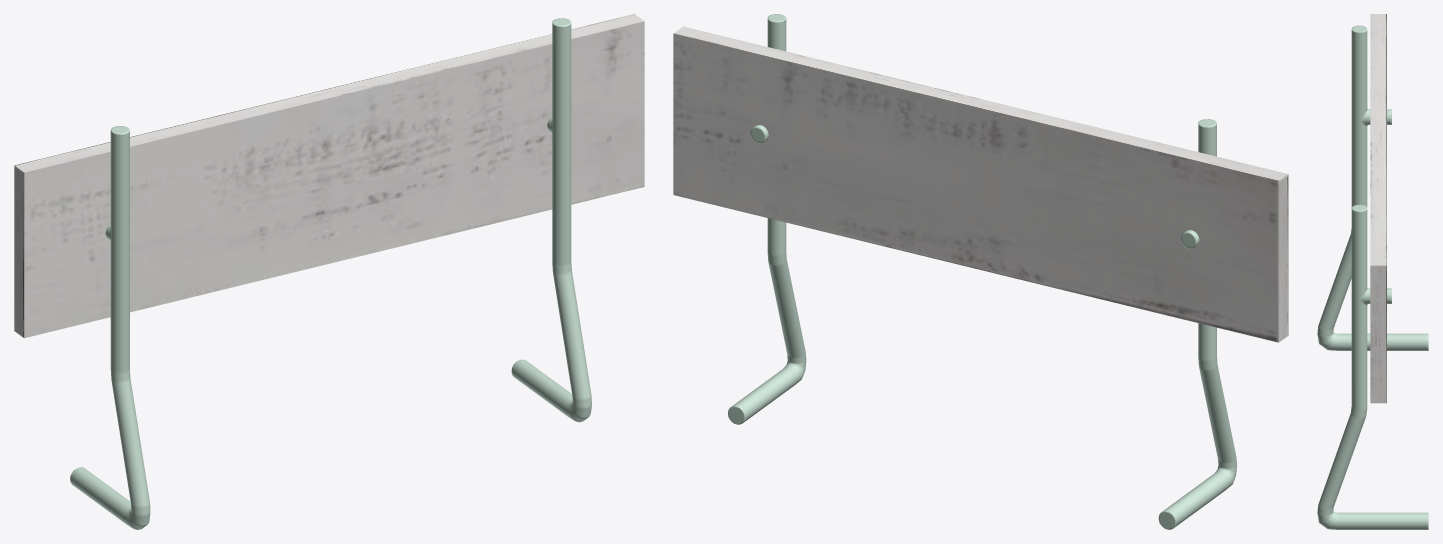
Rendered from Over Heads 00.fbx.
3 views of the same model, side by side, from view 1: azimuth 30°, elevation 25°; view 2: azimuth 150°, elevation 25°; view 3: azimuth 270°, elevation 25° (orthographic). The views are drawn at different scales.
Visible parts, largest first — view 1: Cube, Cylinder.002; view 2: Cube, Cylinder.002; view 3: Cylinder.002, Cube.
Boxes of the visible parts, left/top/right/bottom form: Cube: left=14, top=14, right=644, bottom=338; Cylinder.002: left=70, top=18, right=591, bottom=529; Cube: left=673, top=26, right=1288, bottom=342; Cylinder.002: left=728, top=14, right=1236, bottom=529; Cylinder.002: left=1317, top=25, right=1428, bottom=529; Cube: left=1370, top=14, right=1386, bottom=403.
Bounding box in the file's own units: 171 × 102 × 32.02.
